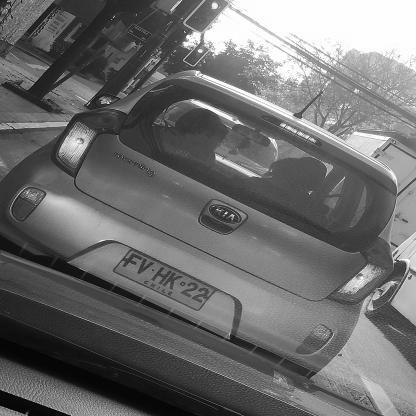Patente: (111, 246, 219, 316)
